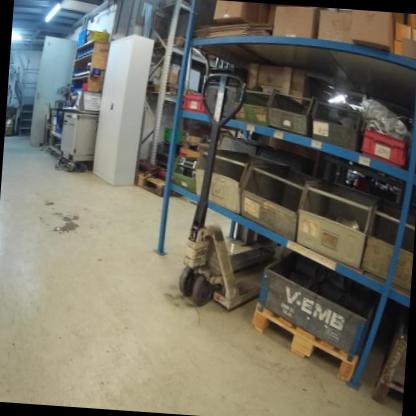pallet: (246, 301, 362, 383), (369, 372, 404, 408), (136, 170, 177, 198), (154, 35, 188, 50), (147, 82, 179, 96)
pallet_truck: (165, 65, 298, 320)
small_load_carrier: (360, 123, 411, 170), (181, 90, 210, 115)
